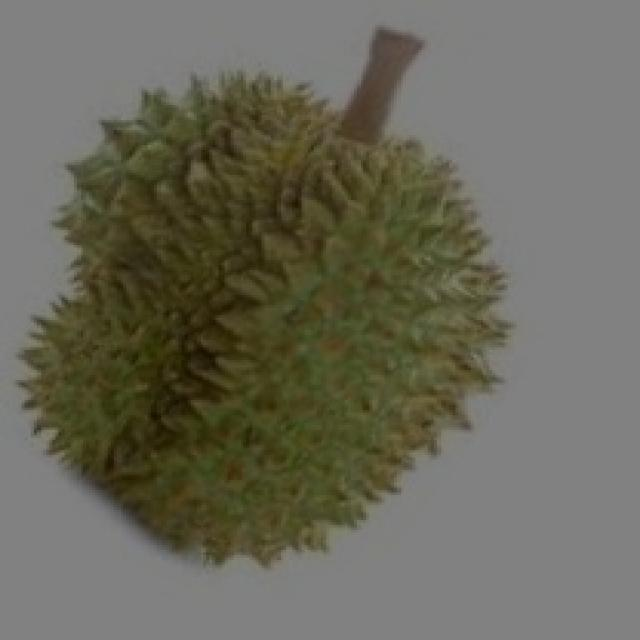fruit: (0, 250, 369, 610)
